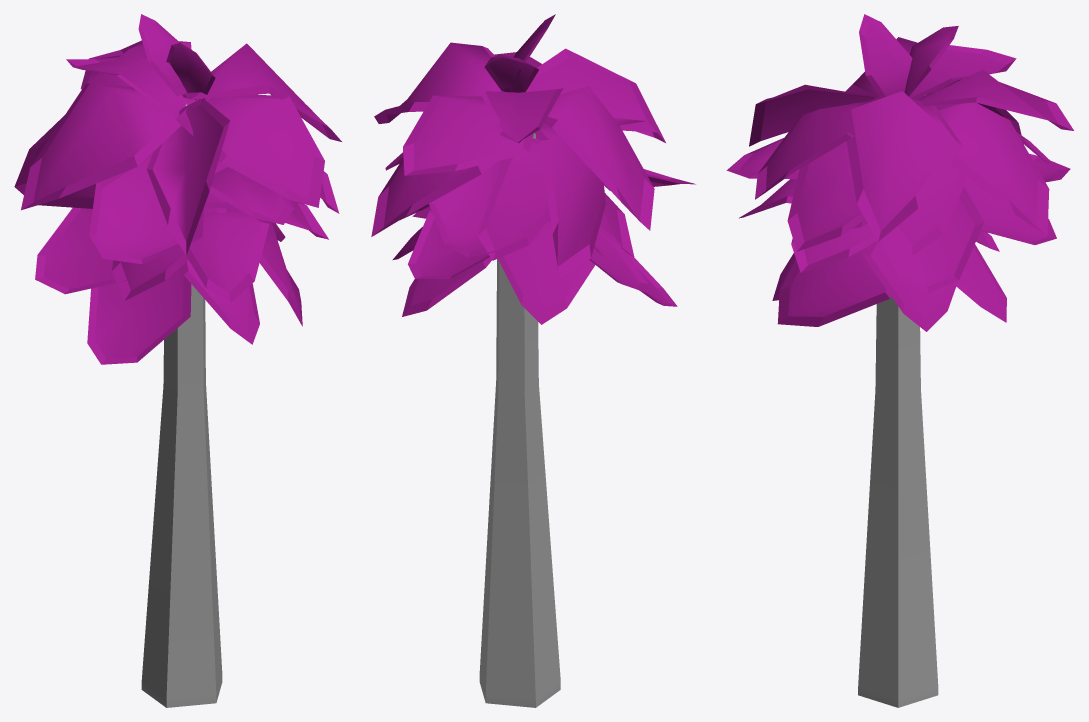
The model's file is stalk.fbx.
The picture shows the model from 3 angles, left to right: view 1: azimuth 30°, elevation 25°; view 2: azimuth 150°, elevation 25°; view 3: azimuth 270°, elevation 25°; orthographic projection.
Parts seen in each view (by area): view 1: stalk, polySurface27, polySurface13, polySurface12, polySurface37, polySurface29, polySurface9, polySurface23, polySurface18, polySurface17, polySurface38, polySurface26 (+7 smaller); view 2: stalk, polySurface25, polySurface27, polySurface31, polySurface30, polySurface12, polySurface34, polySurface18, polySurface16, polySurface14, polySurface38, polySurface22 (+6 smaller); view 3: stalk, polySurface18, polySurface14, polySurface3, polySurface20, polySurface7, polySurface13, polySurface25, polySurface12, polySurface15, polySurface11, polySurface6 (+9 smaller).
Boxes of the visible parts, x1,y1,x2,y2 form: stalk: (141,104,222,707); polySurface27: (21,83,180,210); polySurface13: (175,94,324,207); polySurface12: (146,98,229,255); polySurface37: (87,259,191,364); polySurface29: (89,151,203,264); polySurface9: (186,208,269,302); polySurface23: (35,207,130,294); polySurface18: (184,43,341,141); polySurface17: (209,167,293,224); polySurface38: (66,55,188,113); polySurface26: (112,207,226,300); stalk: (479,132,560,707); polySurface25: (403,95,533,175); polySurface27: (543,86,654,230); polySurface31: (535,125,605,277); polySurface30: (477,138,572,260); polySurface12: (526,48,665,142); polySurface34: (498,219,595,324); polySurface18: (374,42,504,123); polySurface16: (429,159,503,257); polySurface14: (371,158,497,236); polySurface38: (479,88,563,142); polySurface22: (408,210,489,278); stalk: (858,296,938,707); polySurface18: (842,91,962,241); polySurface14: (938,102,1049,235); polySurface3: (777,244,890,326); polySurface20: (787,141,865,251); polySurface7: (880,186,984,293); polySurface13: (755,101,867,199); polySurface25: (916,70,1073,130); polySurface12: (749,84,876,146); polySurface15: (891,164,967,255); polySurface11: (864,240,957,331); polySurface6: (859,14,912,97).
Bounding box in the file's own units: 77.04 × 166 × 78.6.
